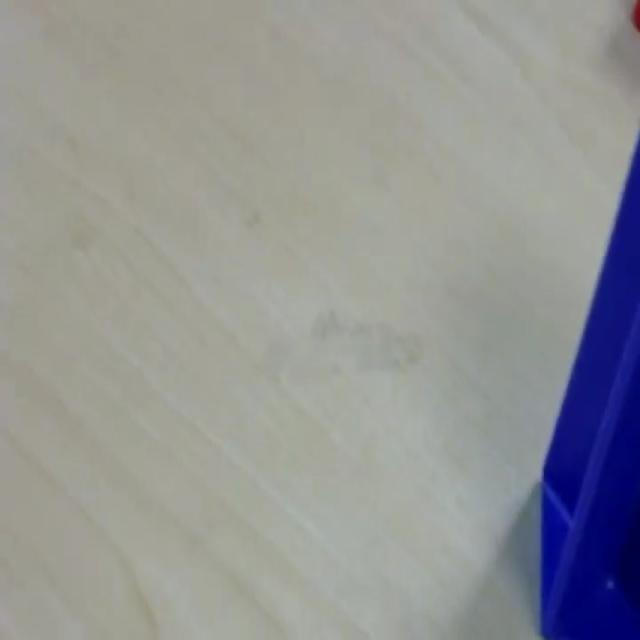blue_block: (538, 125, 638, 636)
